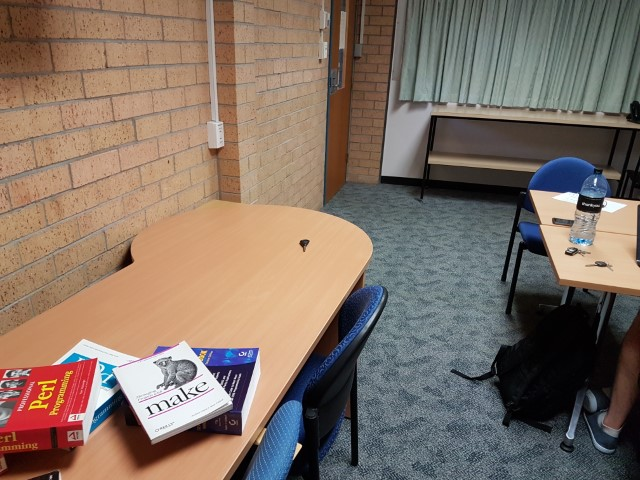key: (300, 239, 309, 252)
